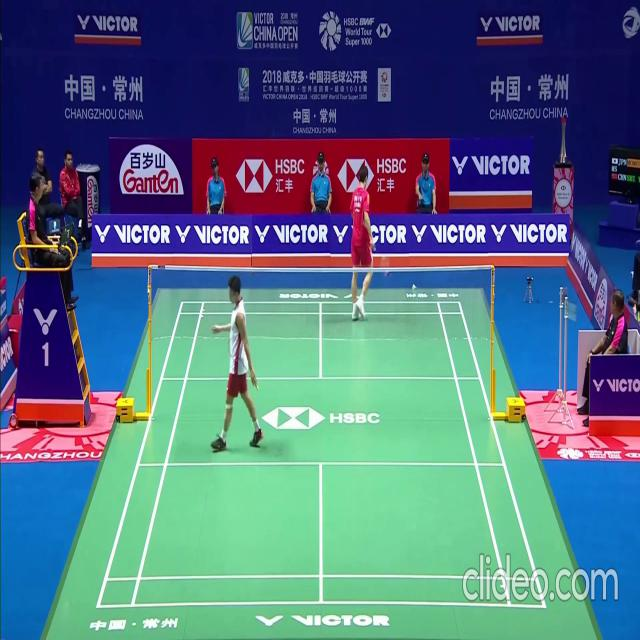Shuttlecock: (413, 282, 418, 290)
